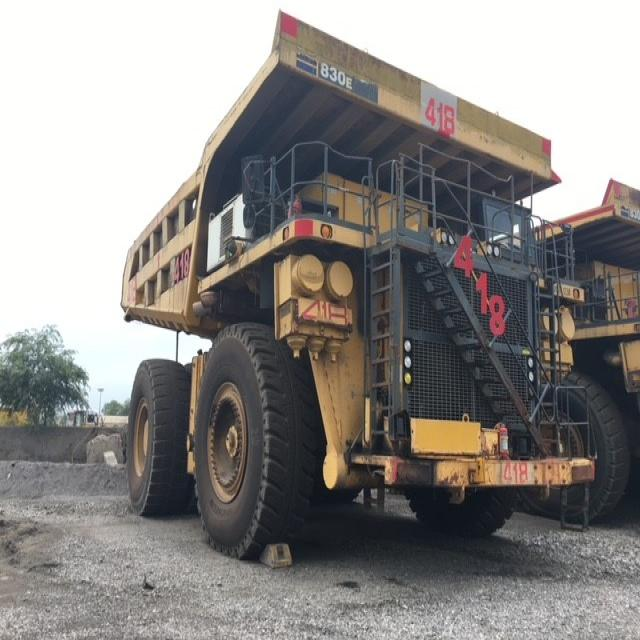dump_truck: (91, 7, 595, 565)
